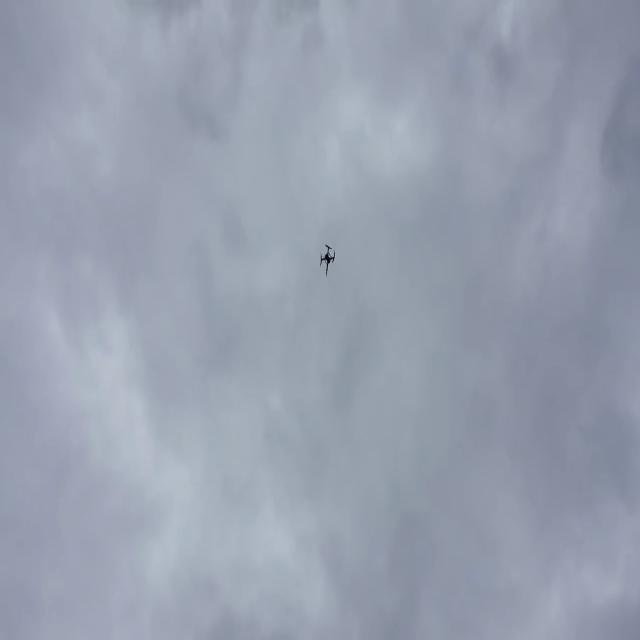drone: (316, 232, 339, 283)
